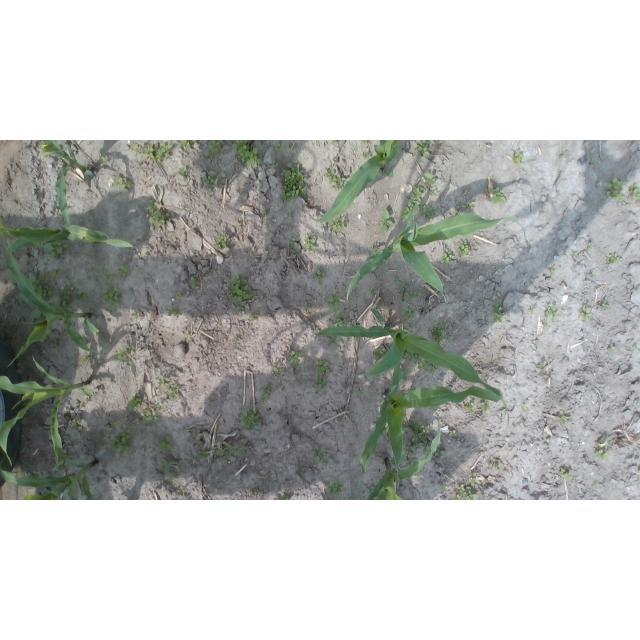Maize: (313, 307, 511, 433), (357, 359, 511, 496), (346, 203, 526, 302), (0, 221, 100, 369), (0, 356, 94, 472), (307, 141, 405, 222), (366, 412, 441, 500), (0, 219, 136, 256), (40, 140, 92, 226), (1, 458, 100, 500)
Weeds: (403, 418, 434, 462), (279, 164, 308, 201), (402, 348, 439, 372), (228, 275, 257, 305), (26, 271, 54, 301), (400, 185, 424, 219), (232, 140, 262, 165), (145, 200, 171, 228), (109, 429, 132, 455), (144, 143, 172, 164), (102, 286, 125, 311), (43, 240, 69, 260), (58, 284, 78, 309), (323, 170, 346, 191), (606, 178, 627, 201), (239, 410, 261, 430), (116, 345, 137, 365), (378, 210, 394, 235), (111, 175, 133, 193), (205, 140, 224, 160), (156, 460, 180, 475), (327, 289, 342, 313), (414, 140, 434, 158), (419, 202, 437, 221), (545, 303, 560, 325), (428, 325, 446, 343), (489, 186, 507, 204), (595, 438, 609, 460), (260, 385, 276, 404), (459, 484, 478, 500), (128, 392, 142, 412), (157, 436, 174, 452), (287, 351, 305, 366), (303, 233, 317, 252), (493, 301, 505, 323), (327, 219, 347, 232), (164, 383, 179, 400), (215, 233, 229, 251), (313, 446, 327, 464), (329, 480, 343, 497), (557, 411, 572, 426), (316, 359, 332, 373), (579, 307, 593, 323), (440, 249, 454, 265), (422, 172, 436, 188), (629, 182, 640, 202), (513, 148, 524, 167), (402, 306, 418, 319), (141, 411, 158, 423), (333, 314, 348, 327), (313, 269, 326, 284), (458, 241, 471, 256), (155, 377, 169, 390), (379, 165, 394, 177), (399, 369, 412, 382), (315, 376, 328, 389), (202, 173, 214, 187), (71, 415, 82, 430), (375, 348, 386, 363), (131, 144, 144, 156), (78, 290, 91, 302), (462, 401, 475, 413), (212, 447, 226, 458), (491, 459, 502, 473), (605, 253, 619, 264), (228, 444, 240, 456), (167, 307, 180, 318), (103, 272, 114, 285), (461, 201, 475, 211), (132, 308, 143, 320), (52, 268, 63, 280), (118, 266, 130, 277), (273, 363, 284, 375), (285, 208, 295, 221), (331, 336, 345, 345), (560, 468, 571, 479), (181, 141, 197, 148), (434, 448, 446, 457), (410, 289, 419, 301), (469, 473, 477, 486), (178, 166, 188, 176), (288, 236, 298, 246), (181, 333, 191, 343), (480, 400, 490, 410), (190, 277, 199, 288), (82, 355, 91, 366), (199, 450, 210, 459), (602, 299, 611, 310), (370, 284, 378, 296), (440, 481, 449, 491), (401, 281, 411, 290), (372, 243, 381, 253), (275, 143, 286, 151), (250, 486, 260, 494), (175, 292, 186, 299), (240, 446, 249, 454), (304, 301, 312, 310), (399, 292, 408, 300), (608, 344, 617, 352), (57, 465, 68, 471), (98, 156, 106, 164), (357, 387, 365, 395), (529, 307, 537, 315), (237, 305, 246, 312), (249, 314, 258, 321), (109, 418, 118, 425), (453, 493, 462, 500), (51, 344, 61, 350), (156, 402, 163, 410), (450, 431, 458, 438), (587, 243, 594, 251), (523, 402, 530, 410), (280, 495, 291, 500), (209, 396, 215, 405), (430, 189, 437, 196), (23, 250, 29, 258), (453, 209, 461, 215), (536, 364, 545, 369), (262, 211, 268, 218), (394, 276, 400, 283), (442, 320, 448, 327), (448, 335, 455, 341), (550, 267, 556, 274), (363, 152, 370, 158), (573, 251, 579, 257), (590, 158, 596, 164), (168, 475, 173, 481), (231, 337, 237, 342), (589, 272, 595, 277), (80, 402, 85, 407), (214, 222, 220, 226), (331, 140, 337, 144), (361, 141, 368, 144), (106, 434, 111, 438), (198, 433, 203, 437), (84, 165, 88, 168)
